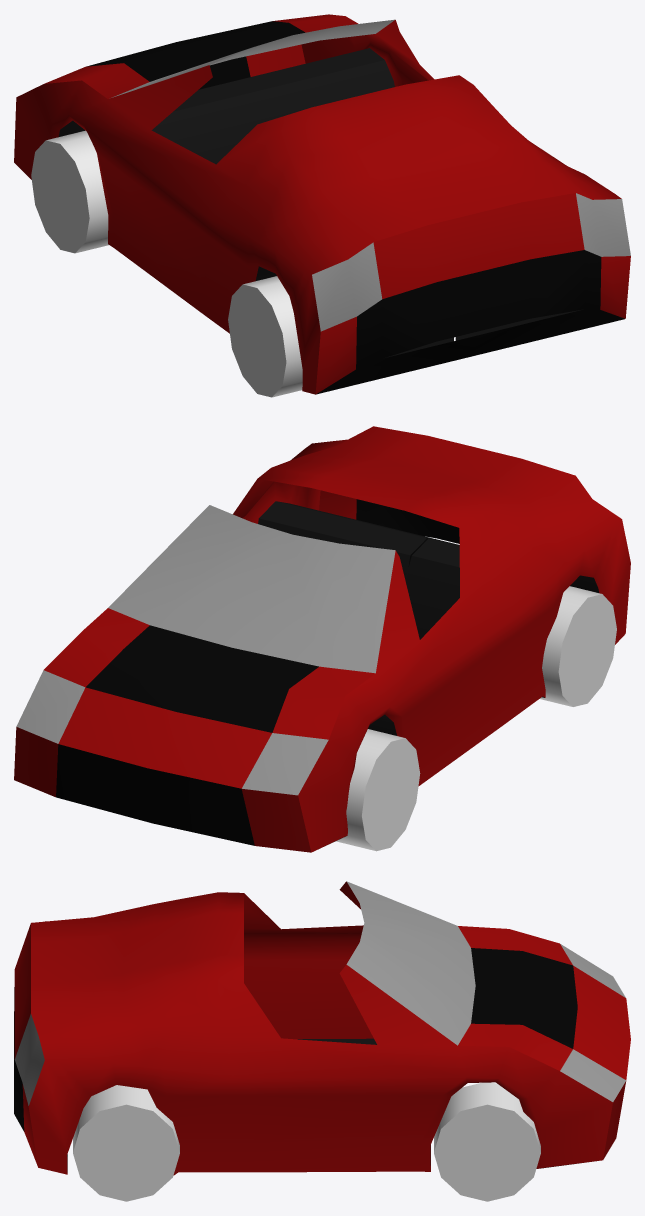
File: terraja tesla.FBX
3 renders of one model, top to bottom at view 1: azimuth 30°, elevation 25°; view 2: azimuth 150°, elevation 25°; view 3: azimuth 270°, elevation 25°, orthographic. The views are drawn at different scales.
Parts seen in each view (by area): view 1: Tesla, Rueda 1, Rueda 2; view 2: Tesla, Rueda 1, Rueda 2; view 3: Tesla, Rueda 3, Rueda 4.
Boxes of the visible parts, bbox=[...] form: Tesla: bbox=[14, 14, 630, 394]; Rueda 1: bbox=[31, 130, 108, 253]; Rueda 2: bbox=[228, 276, 302, 397]; Tesla: bbox=[14, 426, 630, 852]; Rueda 1: bbox=[336, 729, 420, 851]; Rueda 2: bbox=[540, 586, 616, 706]; Tesla: bbox=[14, 881, 630, 1175]; Rueda 3: bbox=[434, 1082, 540, 1201]; Rueda 4: bbox=[73, 1085, 179, 1201].
Size of the model in its own units: 221 by 143 by 390.
